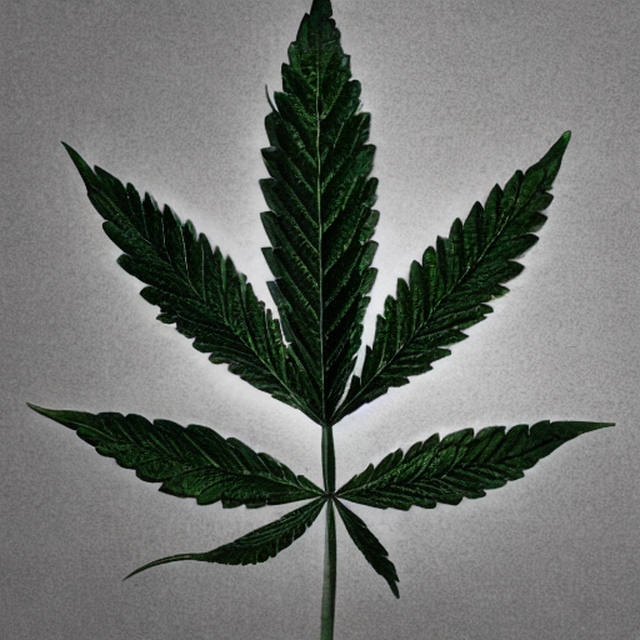Marijuana Leaf: (27, 0, 615, 639)
